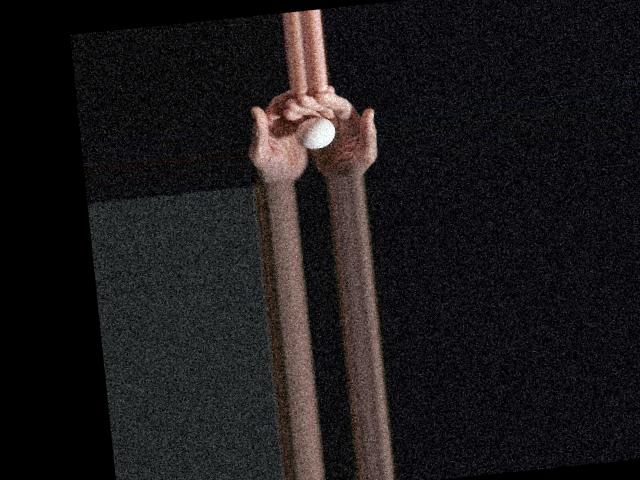egg: (293, 115, 337, 150)
